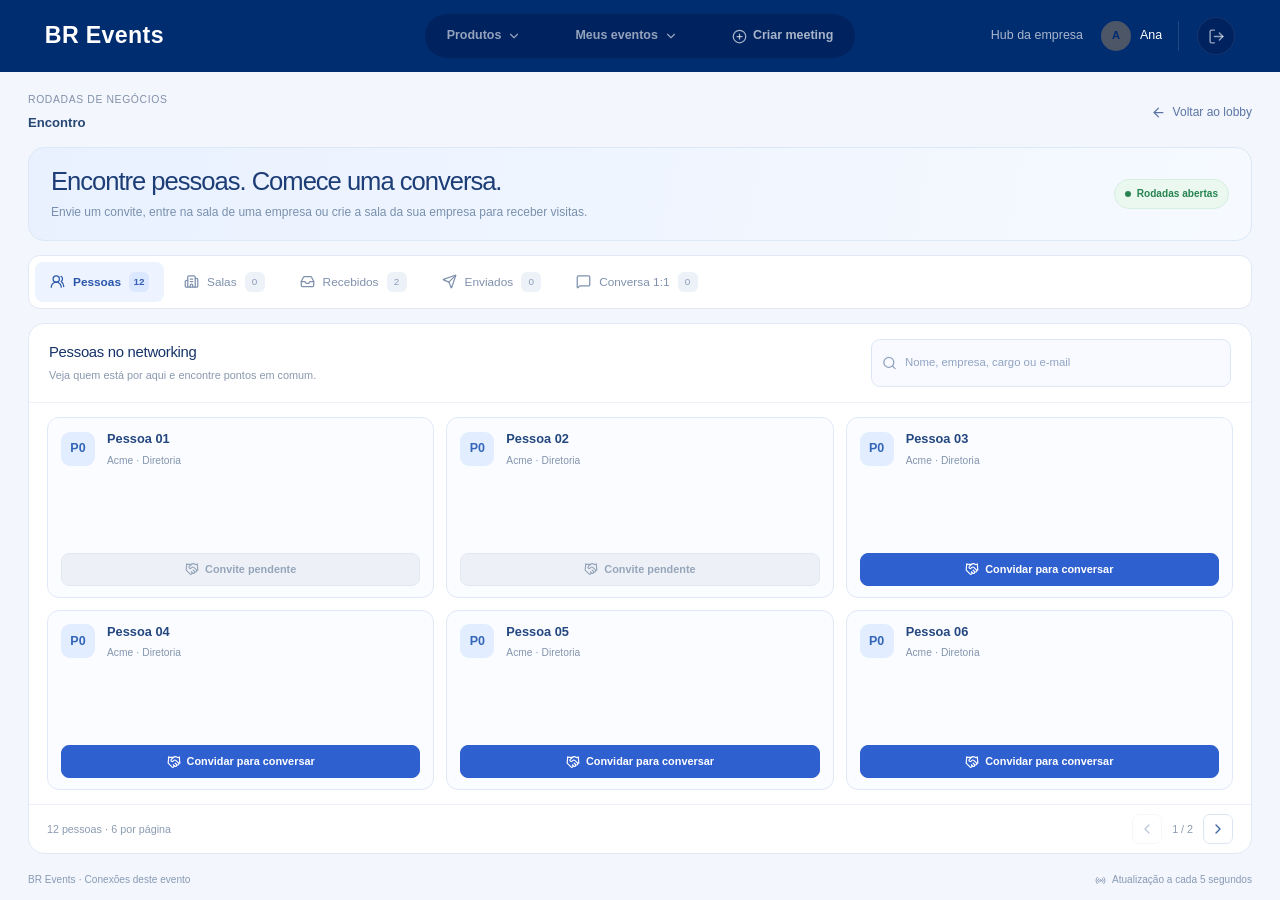
Scenario: networking › aceita um entre vários convites, bloqueia novos e encerra com confirmação
Expected: the text "Pessoa 01" is shown, top-left (107, 431), bottom-right (170, 446)
Click the tab "Recebidos 2" at x=353, y=282, box top-left (285, 262), bottom-right (422, 302)
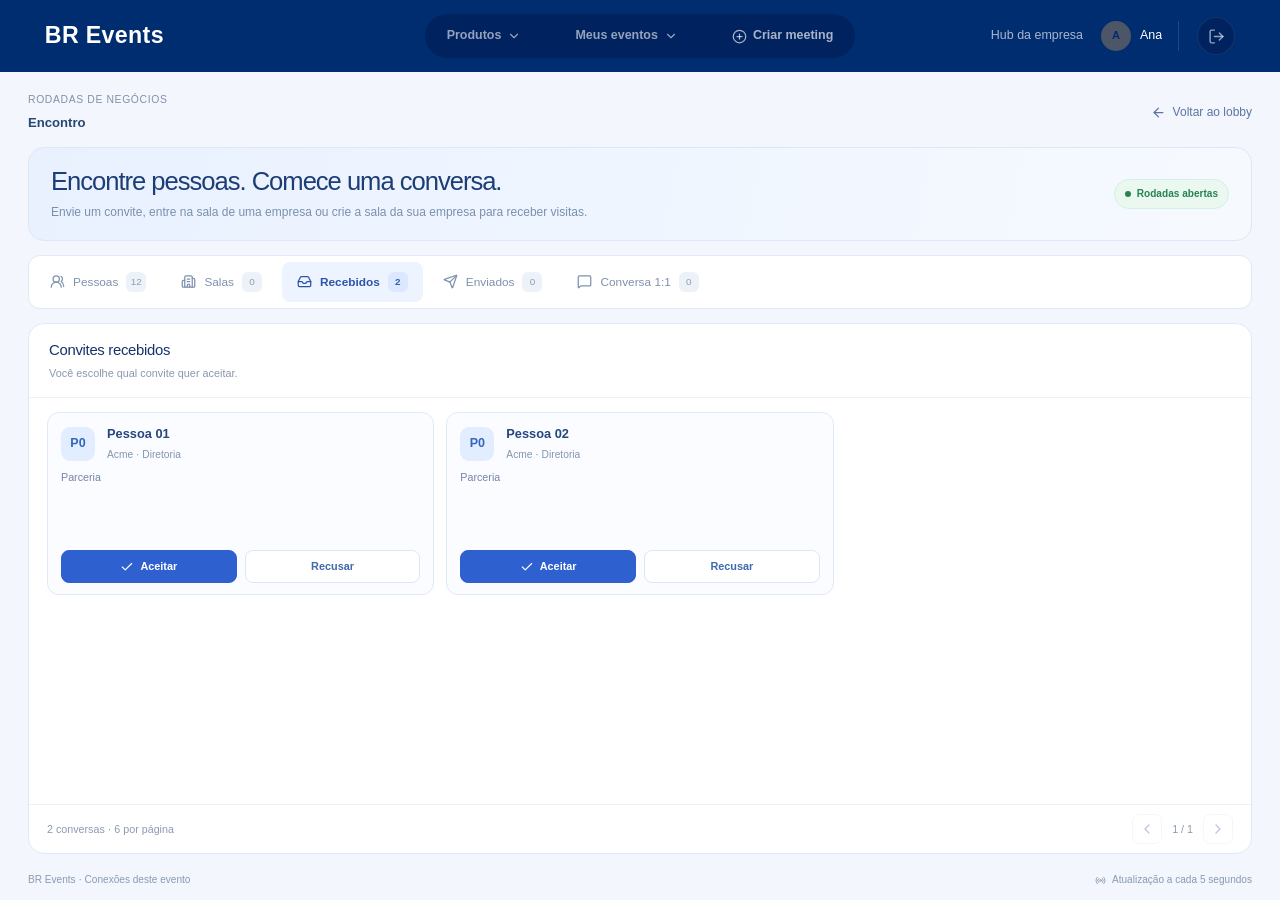
Now the number of buttons "Aceitar" is 2
Click the button "Aceitar" below "Pessoa 01" at x=149, y=566, box top-left (61, 550), bottom-right (237, 583)
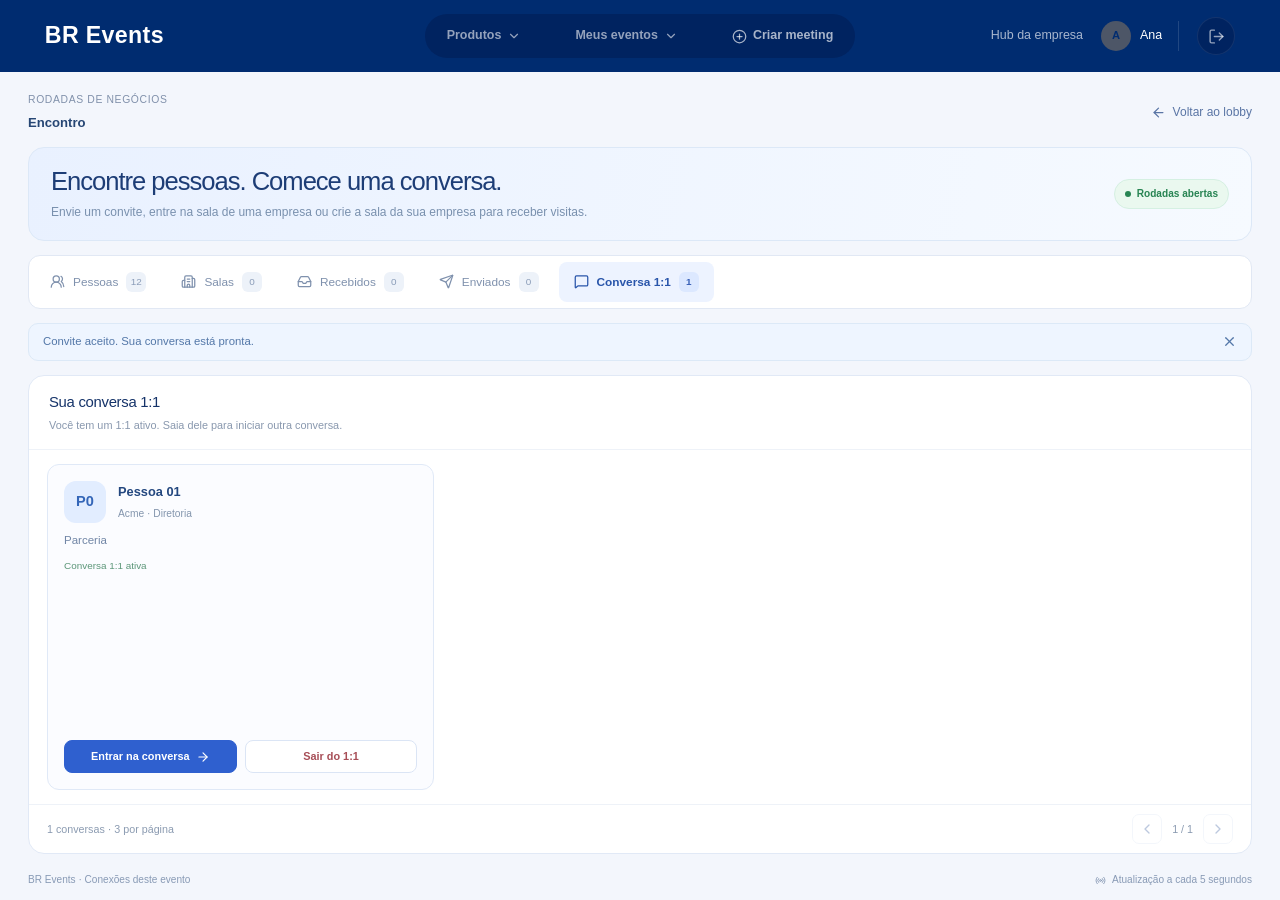
Click the tab "Pessoas 12" at x=98, y=282, box top-left (35, 262), bottom-right (161, 302)
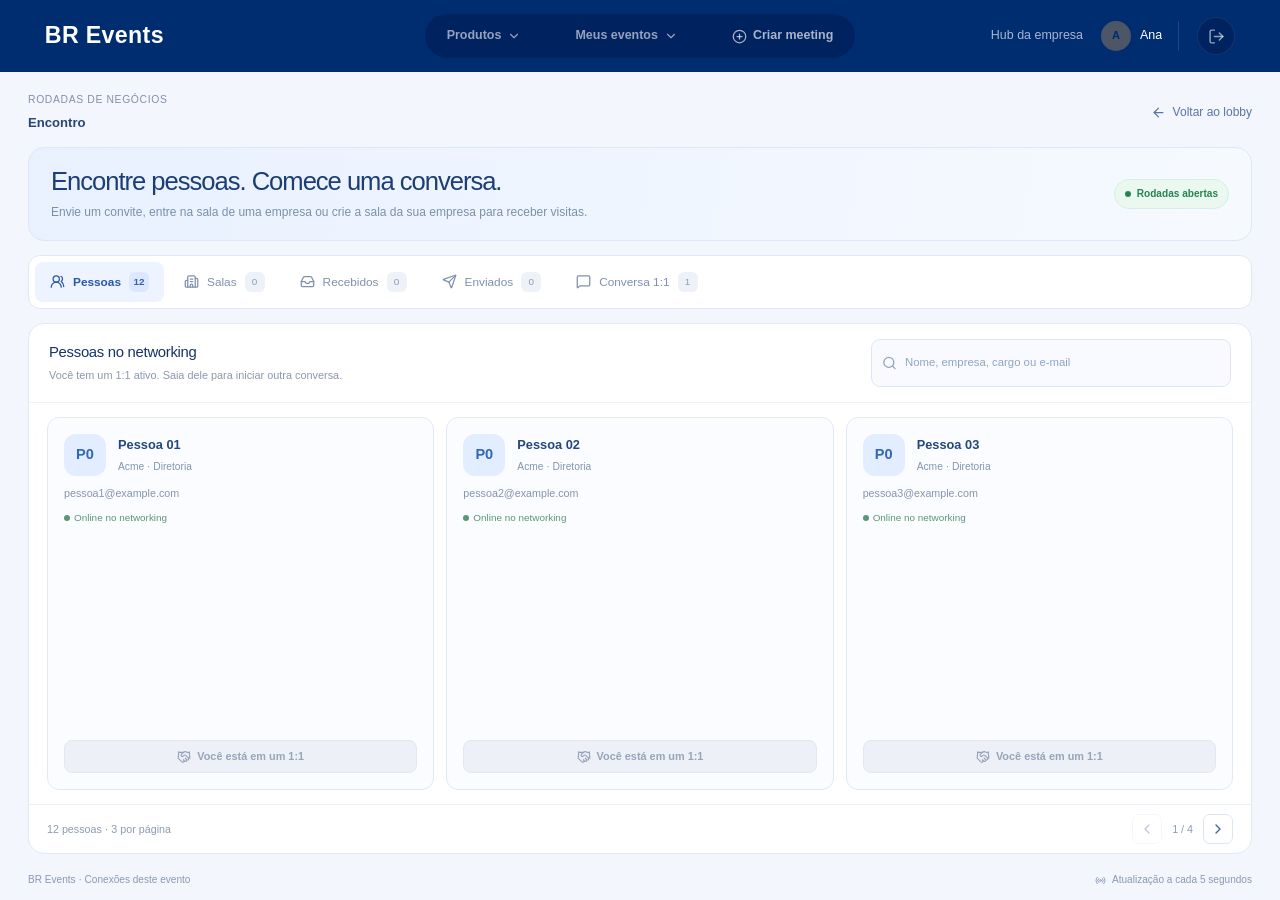
Click the tab "Conversa 1:1 1" at x=637, y=282, box top-left (561, 262), bottom-right (713, 302)
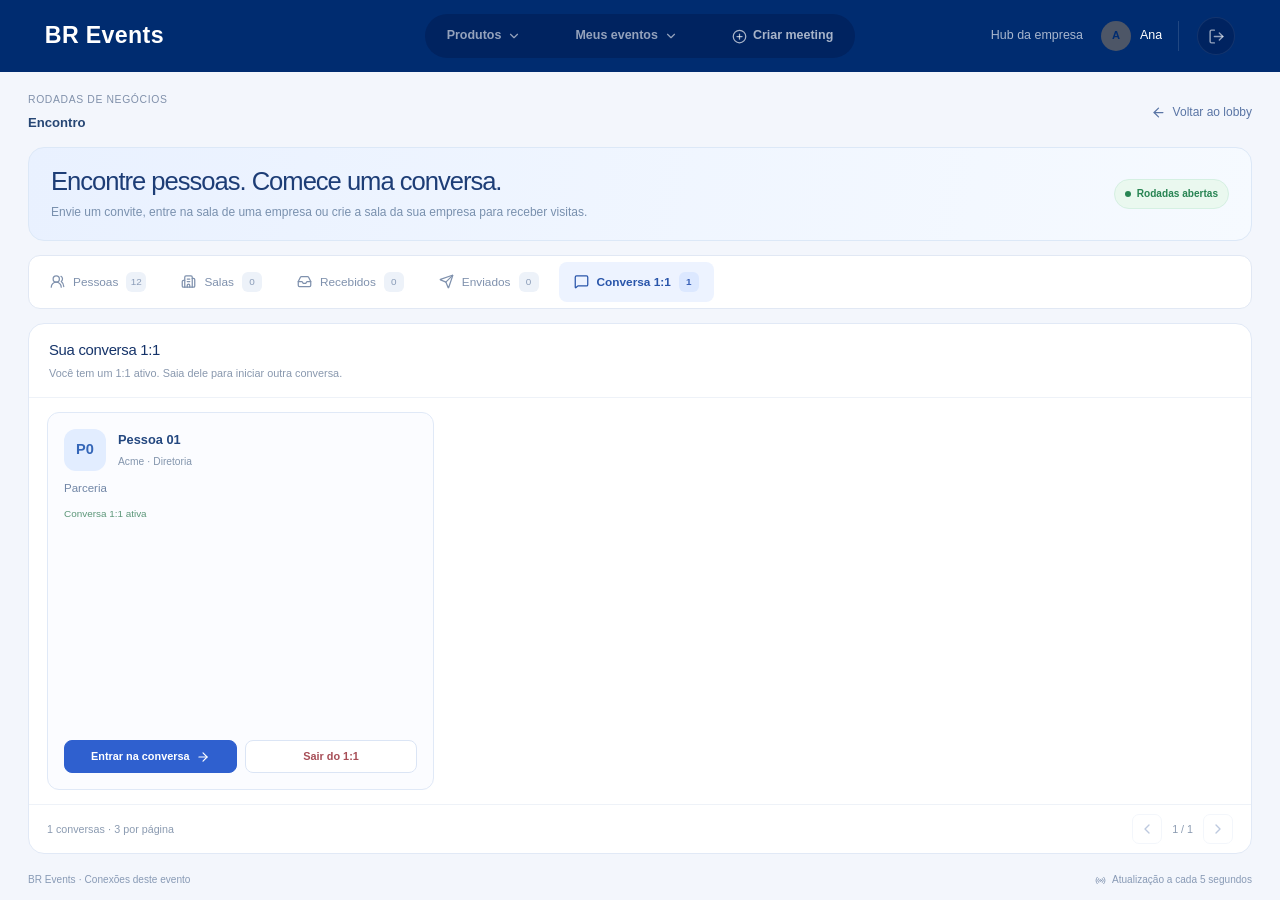
Click the button "Sair do 1:1" at x=331, y=757, box top-left (245, 740), bottom-right (417, 773)
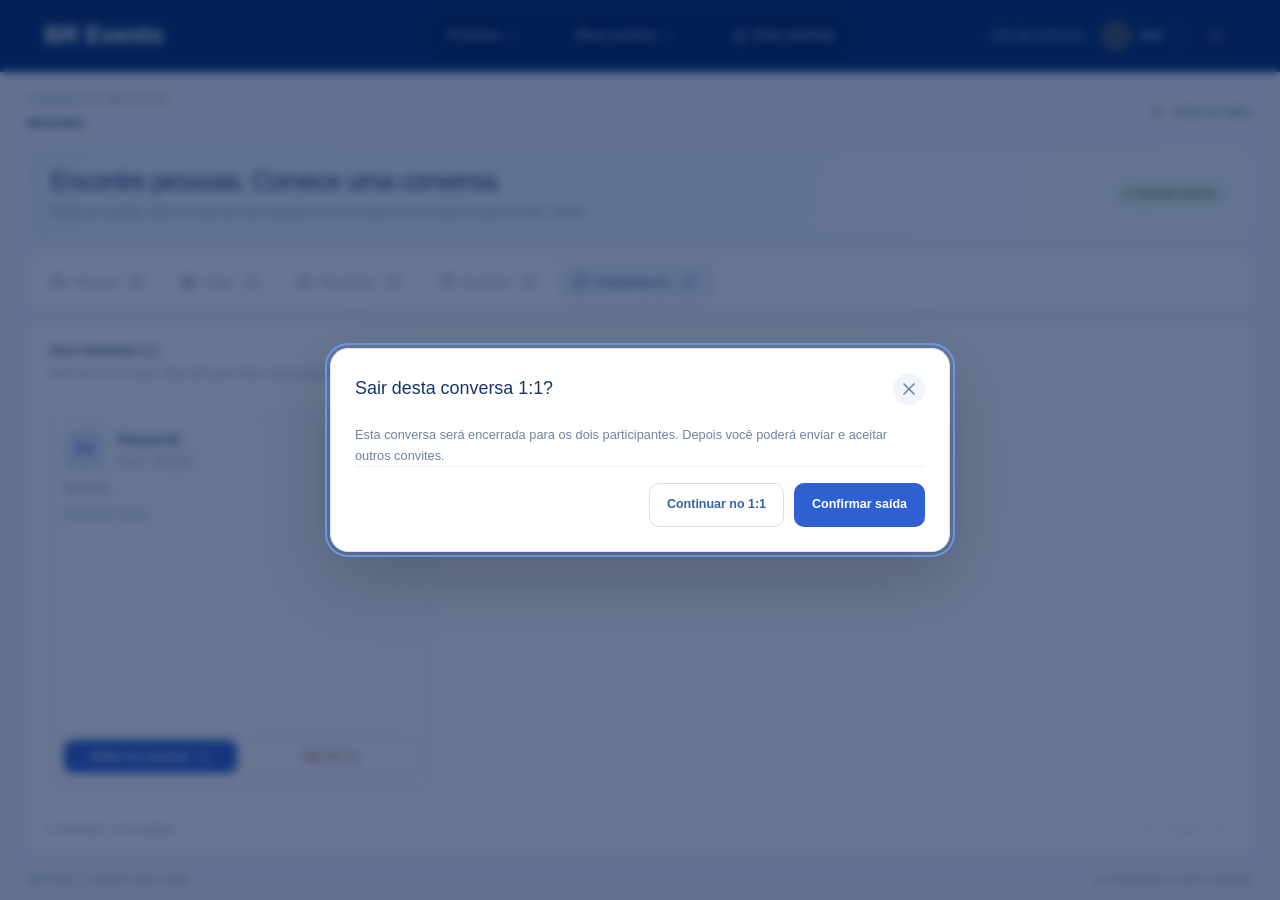
Click the button "Confirmar saída" at x=860, y=505, box top-left (794, 483), bottom-right (925, 527)
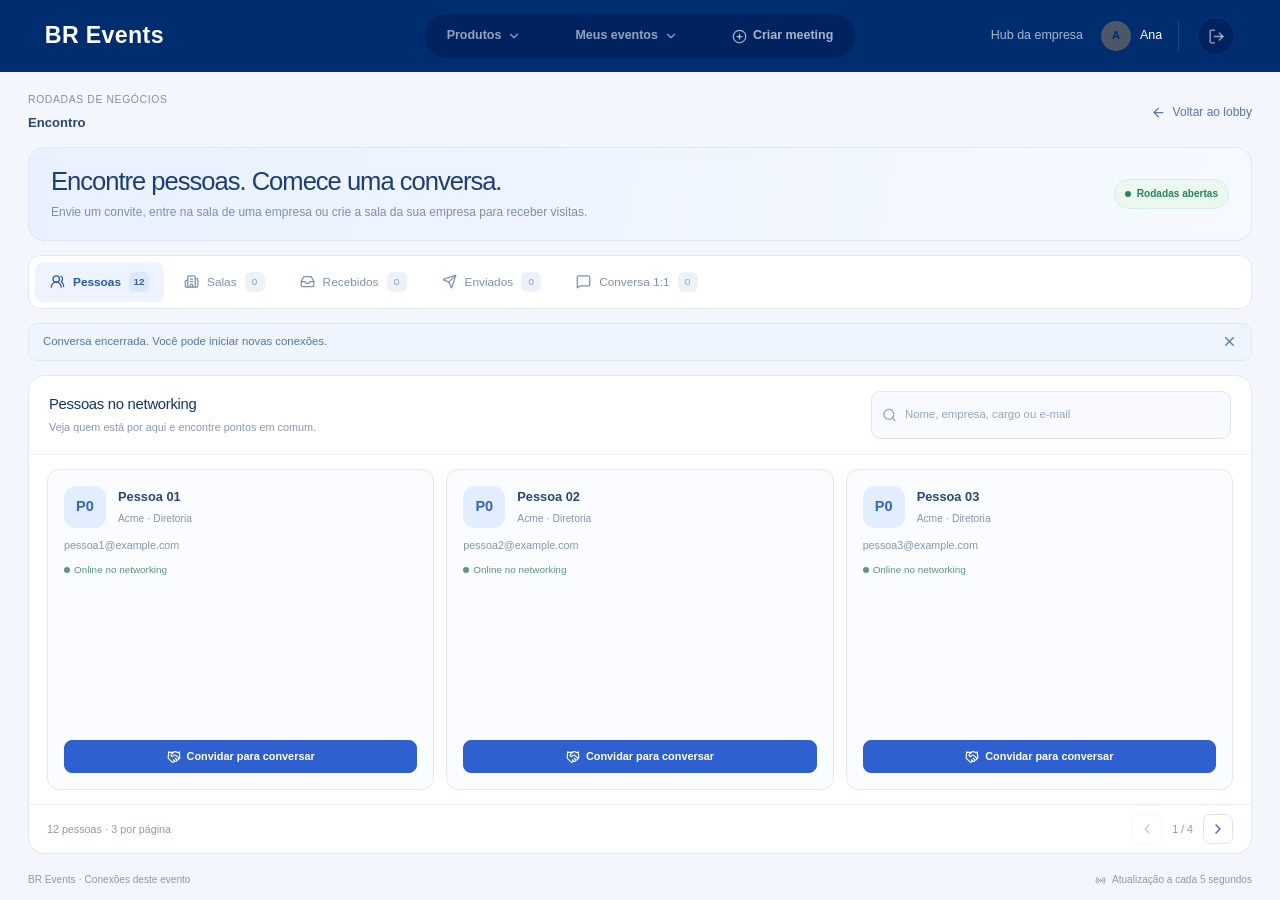
Now the text "Conversa encerrada. Você pode iniciar novas conexões." is shown, box top-left (43, 334), bottom-right (327, 350)
